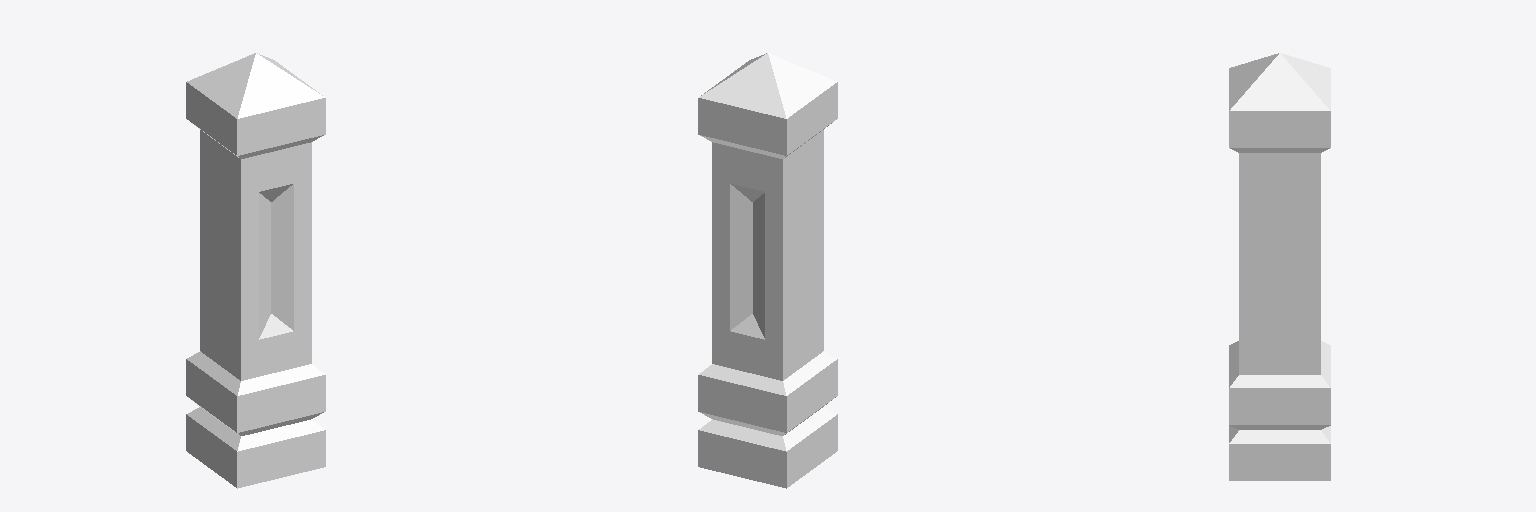
Rendered from fence_pillar.obj.
The picture shows the model from 3 angles: view 1: azimuth 30°, elevation 25°; view 2: azimuth 150°, elevation 25°; view 3: azimuth 270°, elevation 25°; orthographic projection.
Parts seen in each view (by area): view 1: fence_pillar_Cube.017; view 2: fence_pillar_Cube.017; view 3: fence_pillar_Cube.017.
Part boxes in pixels (bbox=[...]): fence_pillar_Cube.017: bbox=[186, 53, 325, 488]; fence_pillar_Cube.017: bbox=[698, 53, 837, 488]; fence_pillar_Cube.017: bbox=[1229, 53, 1330, 480].
Size of the model in its own units: 0.5 by 2.2 by 0.5.